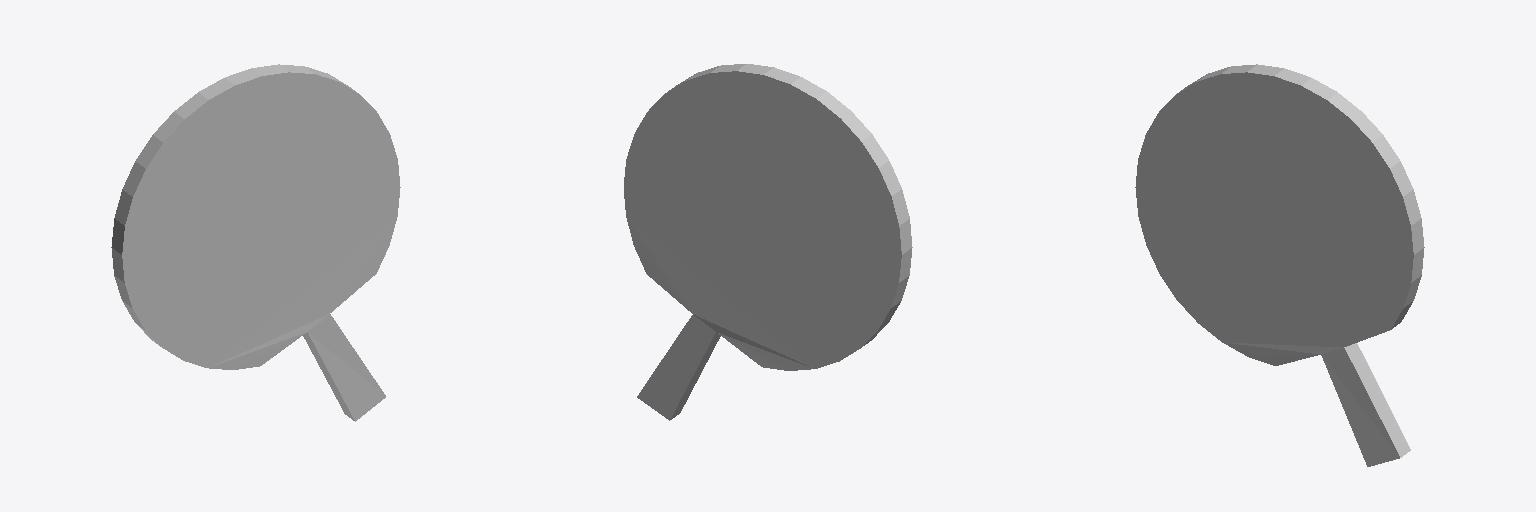
Rendered from Paddle.obj.
3 views of the same model, side by side, from view 1: azimuth 30°, elevation 25°; view 2: azimuth 150°, elevation 25°; view 3: azimuth 330°, elevation 25° (orthographic).
Parts seen in each view (by area): view 1: Paddle_Cylinder; view 2: Paddle_Cylinder; view 3: Paddle_Cylinder.
Part boxes in pixels (left/top/right/bottom): Paddle_Cylinder: left=111, top=64, right=400, bottom=421; Paddle_Cylinder: left=624, top=64, right=912, bottom=420; Paddle_Cylinder: left=1135, top=64, right=1424, bottom=466.
Bounding box in the file's own units: 2 × 2.53 × 0.1511.